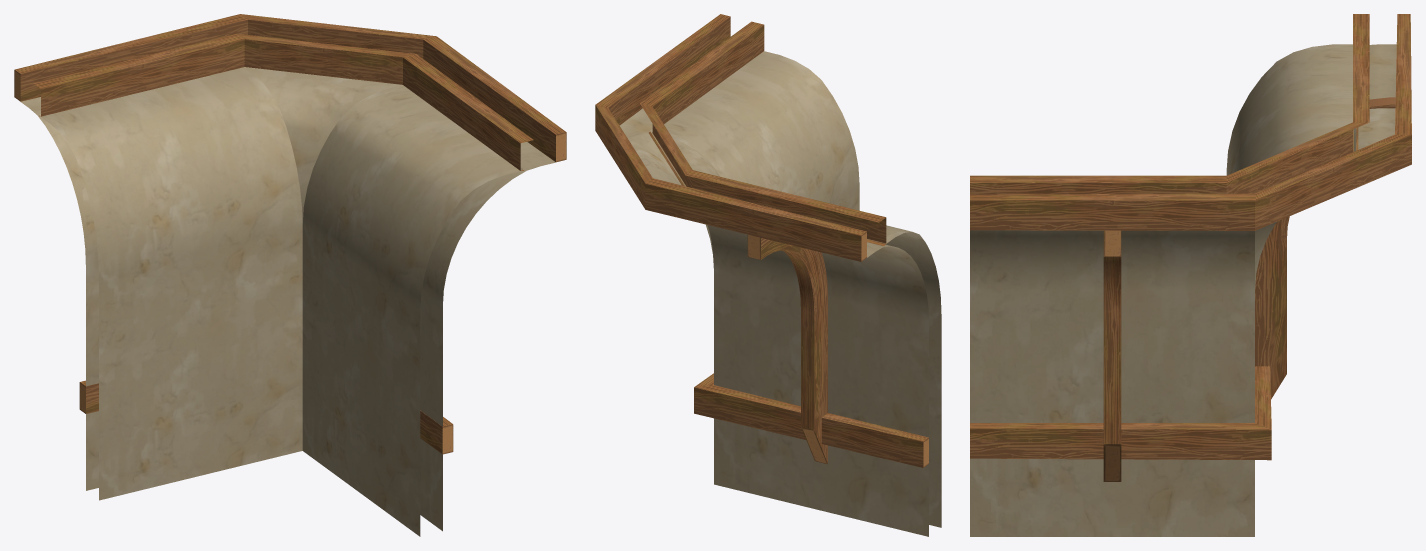
File: Overhang_Plaster_Corner.glb
The picture shows the model from 3 angles, left to right: view 1: azimuth 30°, elevation 25°; view 2: azimuth 150°, elevation 25°; view 3: azimuth 270°, elevation 25°; orthographic projection. The views are drawn at different scales.
Parts seen in each view (by area): view 1: Overhang_Plaster_Corner; view 2: Overhang_Plaster_Corner; view 3: Overhang_Plaster_Corner.
Part boxes in pixels (<box>): Overhang_Plaster_Corner: <box>14,14,566,536</box>; Overhang_Plaster_Corner: <box>595,14,941,536</box>; Overhang_Plaster_Corner: <box>970,14,1411,536</box>.
Size of the model in its own units: 3.1 by 3.12 by 3.1.
2 materials, 2 textured.
